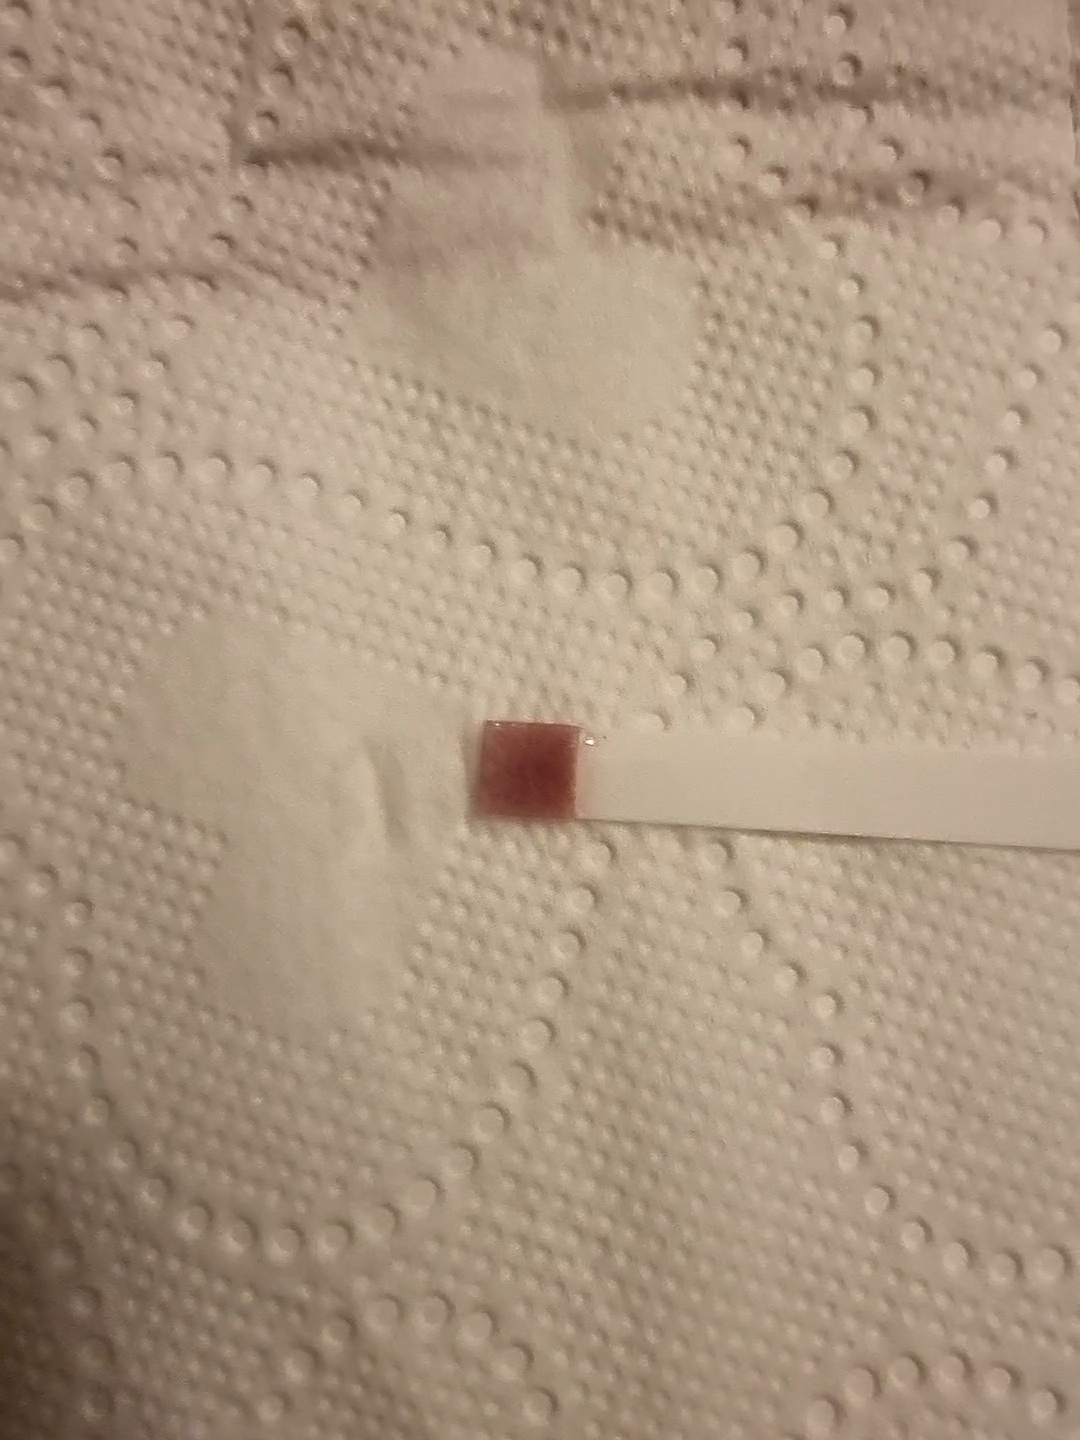keto-tip: (472, 714, 585, 832)
